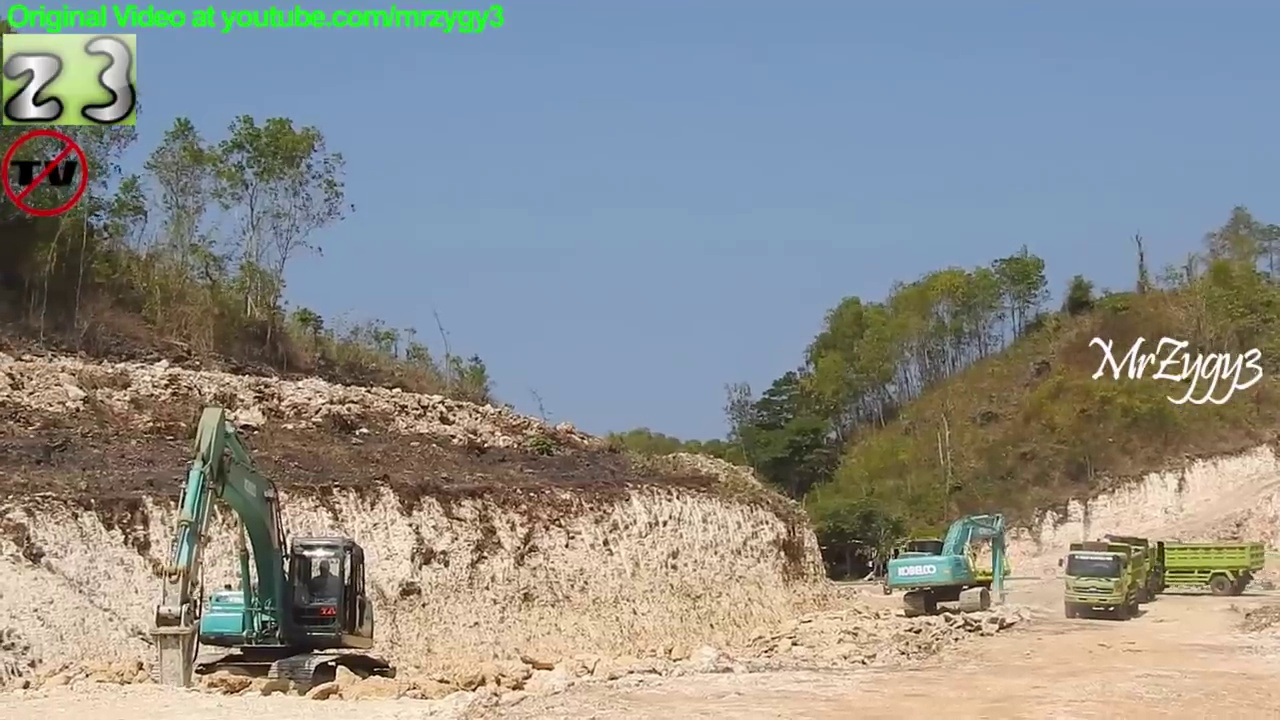excavator: (879, 507, 1015, 623)
excavator breaker: (146, 399, 402, 702)
truck: (1096, 531, 1268, 603), (1055, 538, 1144, 621), (1075, 536, 1158, 613)
